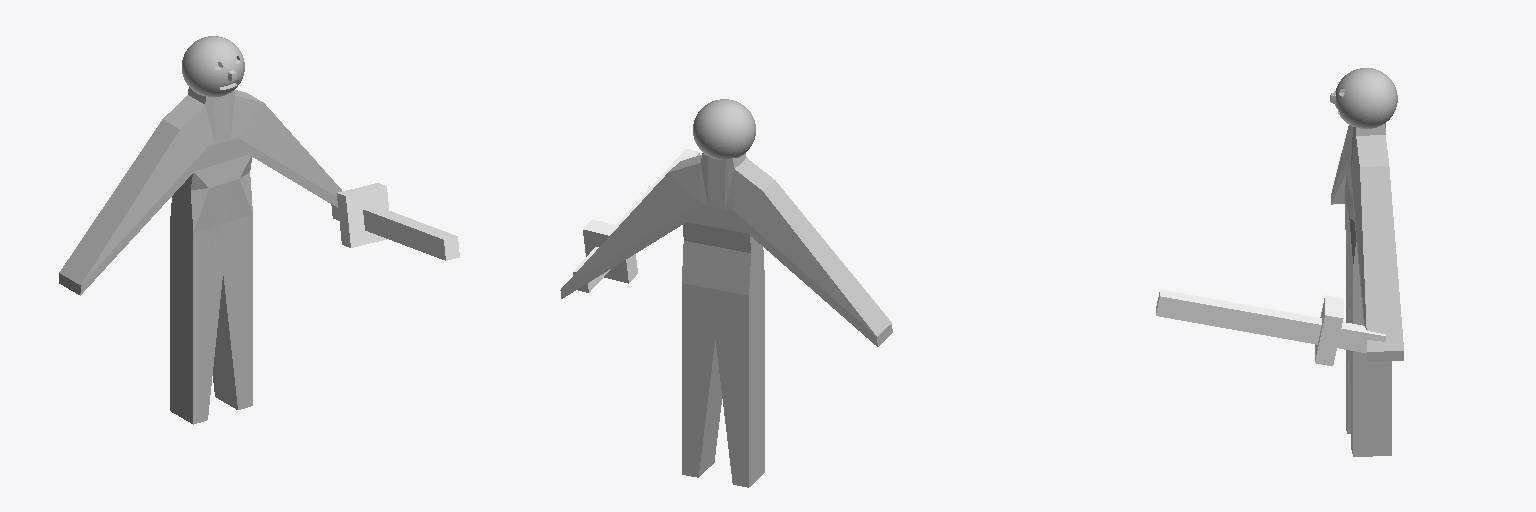
Rendered from attack.obj.
The picture shows the model from 3 angles: view 1: azimuth 30°, elevation 25°; view 2: azimuth 150°, elevation 25°; view 3: azimuth 270°, elevation 25°; orthographic projection.
Visible parts, largest first — view 1: 球.003, 立方体.001; view 2: 球.003, 立方体.001; view 3: 球.003, 立方体.001.
Boxes of the visible parts, <box> form: 球.003: <box>59,36,341,424</box>; 立方体.001: <box>331,183,459,260</box>; 球.003: <box>560,99,892,487</box>; 立方体.001: <box>573,149,699,292</box>; 球.003: <box>1330,68,1403,456</box>; 立方体.001: <box>1156,290,1385,365</box>.
Bounding box in the file's own units: 2.58 × 2.97 × 1.8.